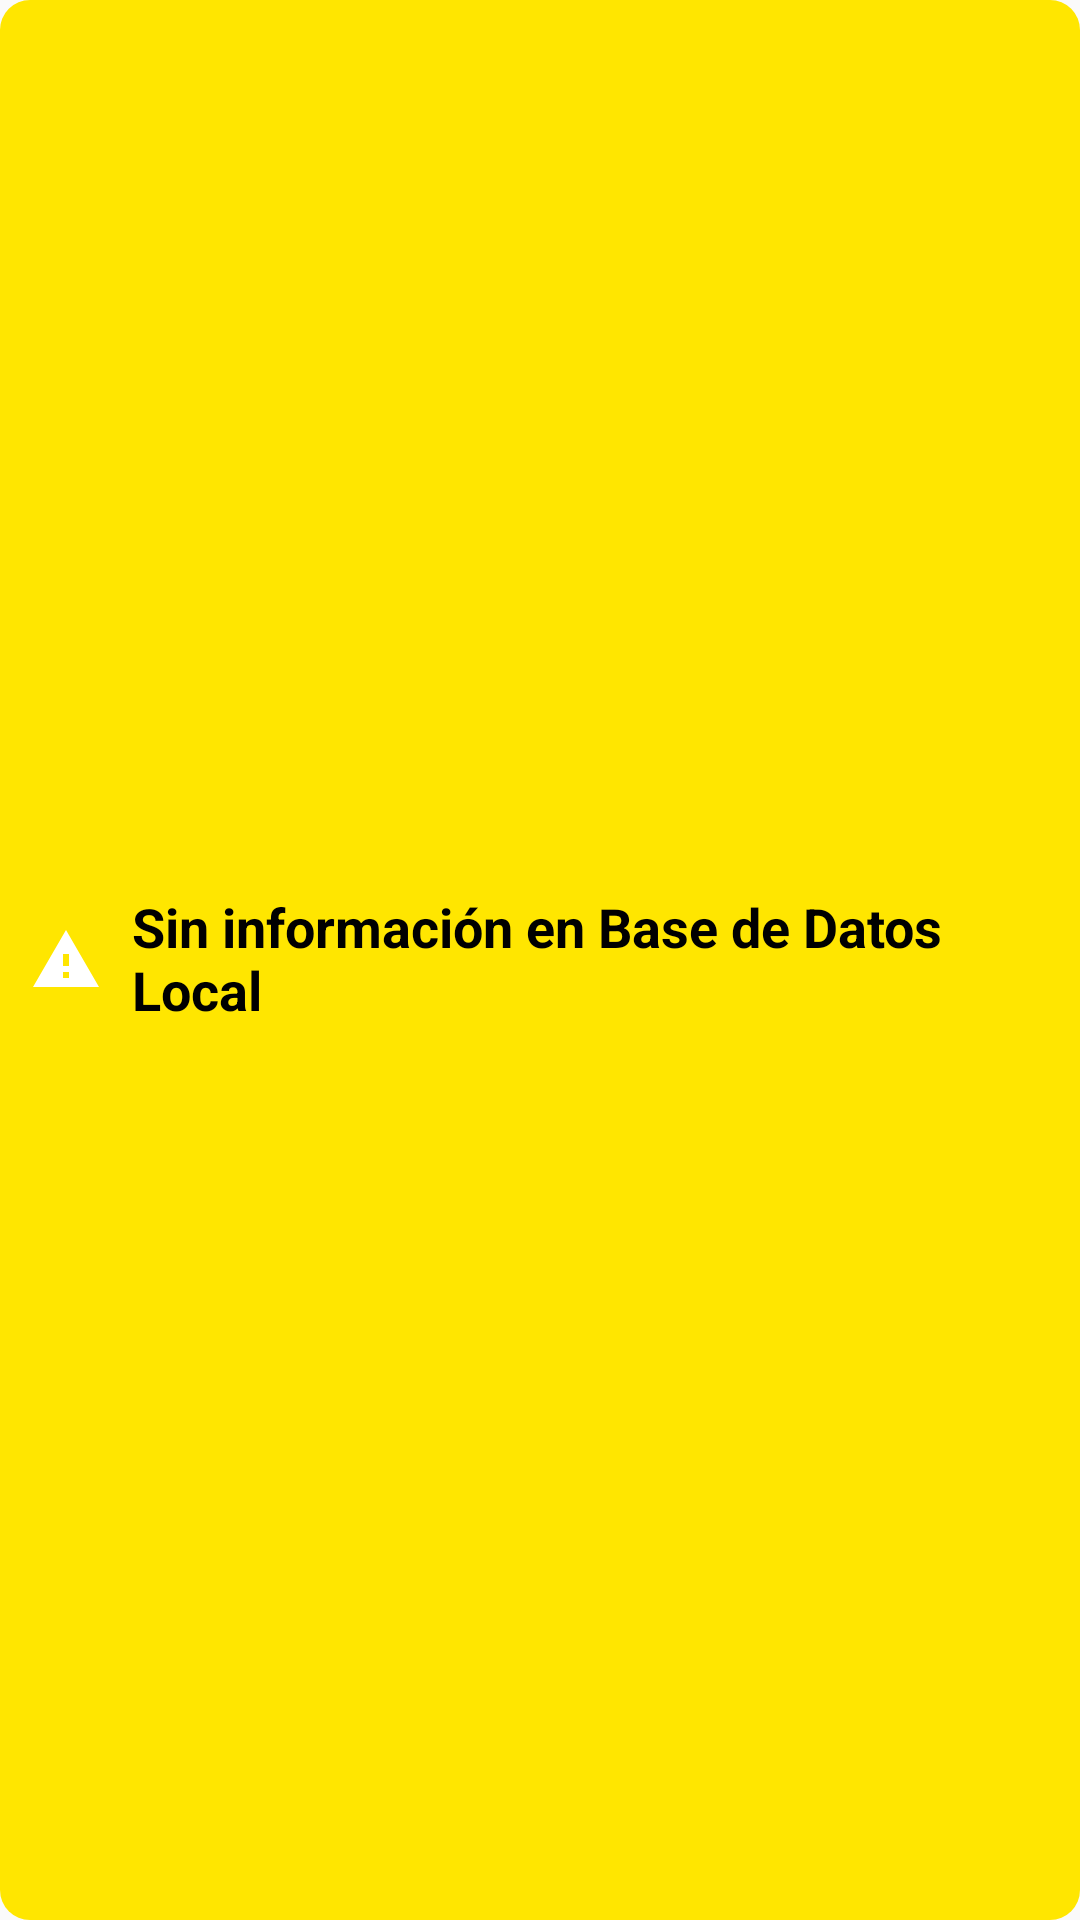

Point at icon controls on the screen. Image size 1080x1920, points as (x,y).
warning: (66,958)
